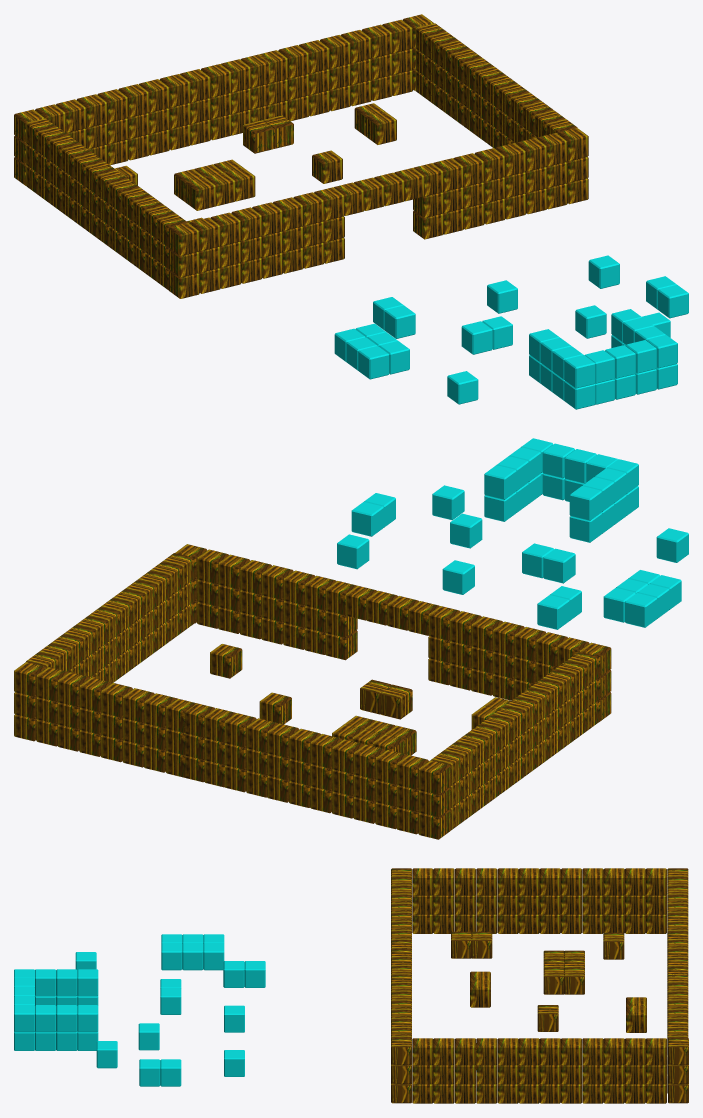
File: FacilVersao3.fbx
3 views of the same model, one above another, from view 1: azimuth 30°, elevation 25°; view 2: azimuth 150°, elevation 25°; view 3: azimuth 270°, elevation 25° (orthographic). The views are drawn at different scales.
Visible parts, largest first — view 1: madeira100 (×15), madeira98 (×14), madeira161 (×5), madeira99 (×2), madeira101 (×2), aliado34, aliado42, aliado37, aliado36, aliado32, aliado56, aliado67 (+19 smaller); view 2: madeira100 (×15), madeira98 (×14), madeira99 (×2), madeira101 (×2), aliado34, aliado41, aliado32, aliado35, aliado37, madeira160, madeira162, aliado36 (+21 smaller); view 3: madeira161 (×4), madeira132 (×2), madeira141 (×2), madeira152 (×2), madeira139 (×2), madeira124 (×2), madeira126 (×2), madeira148 (×2), madeira151 (×2), madeira162 (×2), madeira147 (×2), madeira157 (×2) (+55 smaller).
Boxes of the visible parts, x1,y1,x2,y2 form: madeira100 (×15): (56, 19, 567, 256); madeira98 (×14): (76, 24, 588, 250); madeira161 (×5): (185, 111, 396, 210); madeira99 (×2): (168, 210, 443, 298); madeira101 (×2): (168, 192, 443, 277); aliado34: (575, 305, 606, 338); aliado42: (384, 305, 415, 338); aliado37: (461, 321, 492, 354); aliado36: (447, 371, 478, 404); aliado32: (588, 255, 619, 288); aliado56: (564, 355, 595, 388); aliado67: (358, 346, 389, 379); madeira100 (×15): (36, 549, 567, 795); madeira98 (×14): (14, 554, 545, 789); madeira99 (×2): (325, 630, 450, 839); madeira101 (×2): (325, 611, 450, 817); aliado34: (450, 513, 482, 548); aliado41: (537, 595, 569, 629); aliado32: (337, 534, 369, 569); aliado35: (432, 485, 464, 520); aliado37: (543, 548, 575, 583); madeira160: (210, 644, 242, 678); madeira162: (380, 684, 412, 719); aliado36: (656, 528, 688, 562); madeira161 (×4): (451, 931, 646, 1032); madeira132 (×2): (412, 868, 433, 1065); madeira141 (×2): (582, 868, 603, 1065); madeira152 (×2): (433, 868, 454, 1065); madeira139 (×2): (518, 868, 539, 1065); madeira124 (×2): (476, 868, 497, 1065); madeira126 (×2): (497, 868, 518, 1065); madeira148 (×2): (603, 868, 624, 1065); madeira151 (×2): (539, 868, 560, 1065); madeira162 (×2): (471, 931, 584, 994); madeira147 (×2): (625, 868, 645, 1065); madeira157 (×2): (646, 868, 666, 1065).
Size of the model in its own units: 20.03 by 3.05 by 31.97.
